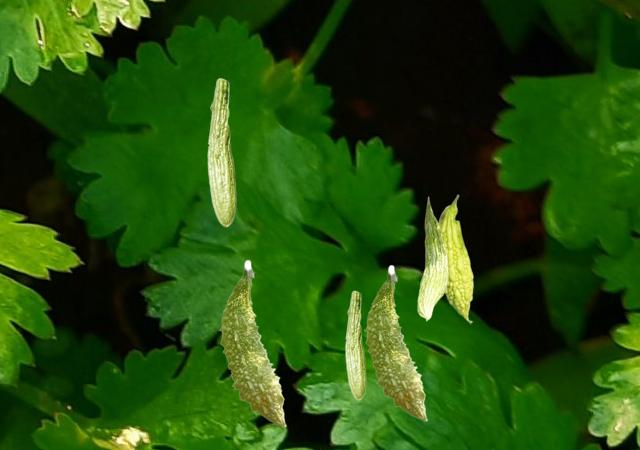ampalaya: (218, 259, 286, 427), (363, 264, 428, 421), (438, 194, 474, 324), (207, 77, 237, 227), (416, 196, 449, 322), (344, 290, 366, 400)
